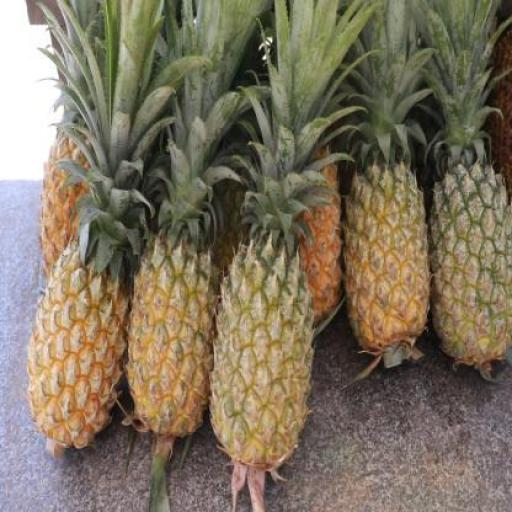------------------------------: (213, 252, 314, 468)
Pineapple - v8 v1: (29, 244, 136, 456), (130, 237, 223, 435), (345, 169, 430, 349), (44, 133, 116, 311)
